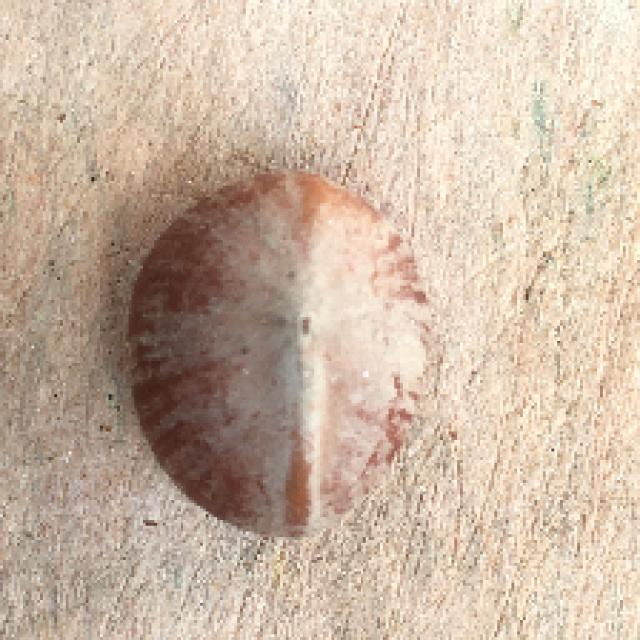qualityHazelnut: (117, 168, 451, 552)
